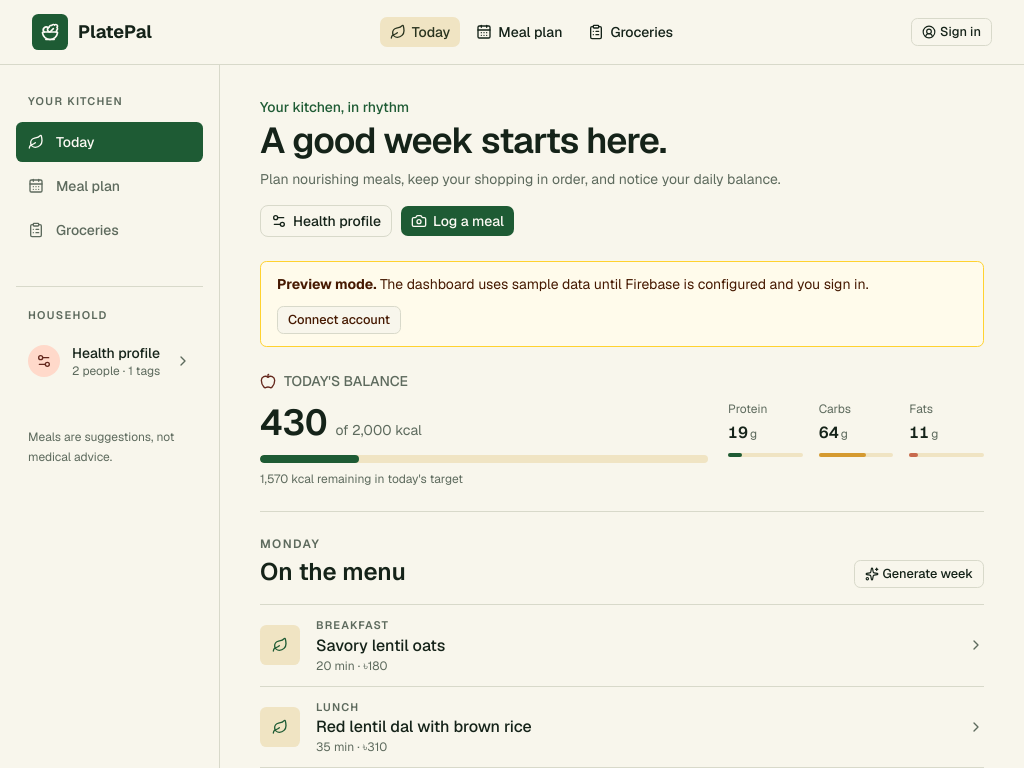
Test case: PlatePal dashboard › explains why meal scanning is unavailable without Cloudinary setup
Click the button "Log a meal" at (458, 221), box [400,205,515,237]
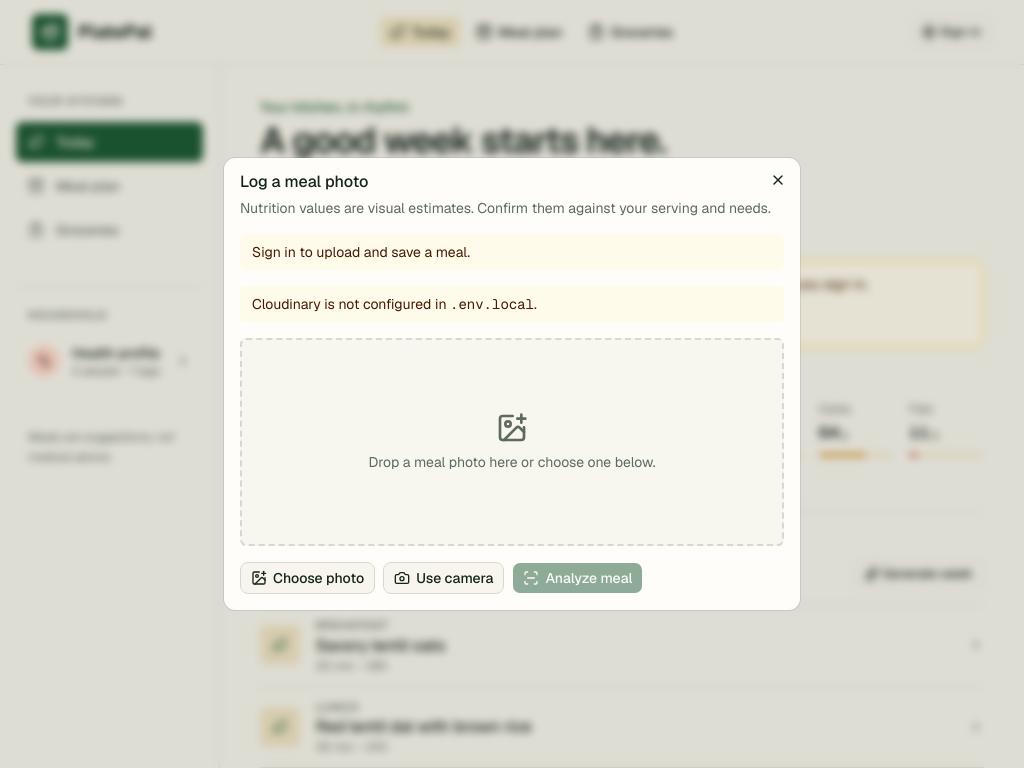
Expected: the text "Cloudinary is not configured in .env.local." is shown, [240,286,784,322]
Expected: the text "Sign in to upload and save a meal." is shown, [240,234,784,270]
Expected: the button "Analyze meal" is disabled, [512,562,643,594]
